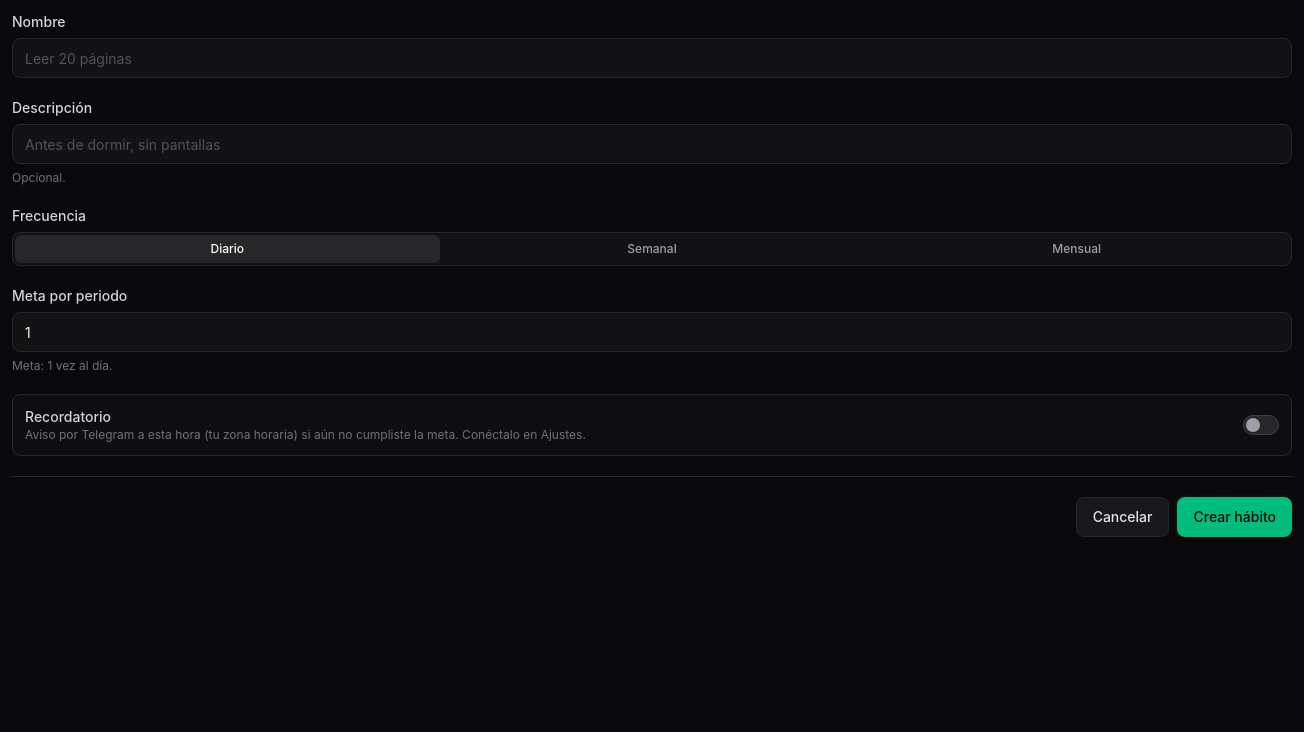
HabitForm › valida antes de enviar
Replace the text in the field labelled "Meta por periodo" with "0" at [652, 332], box [12,312,1292,352]
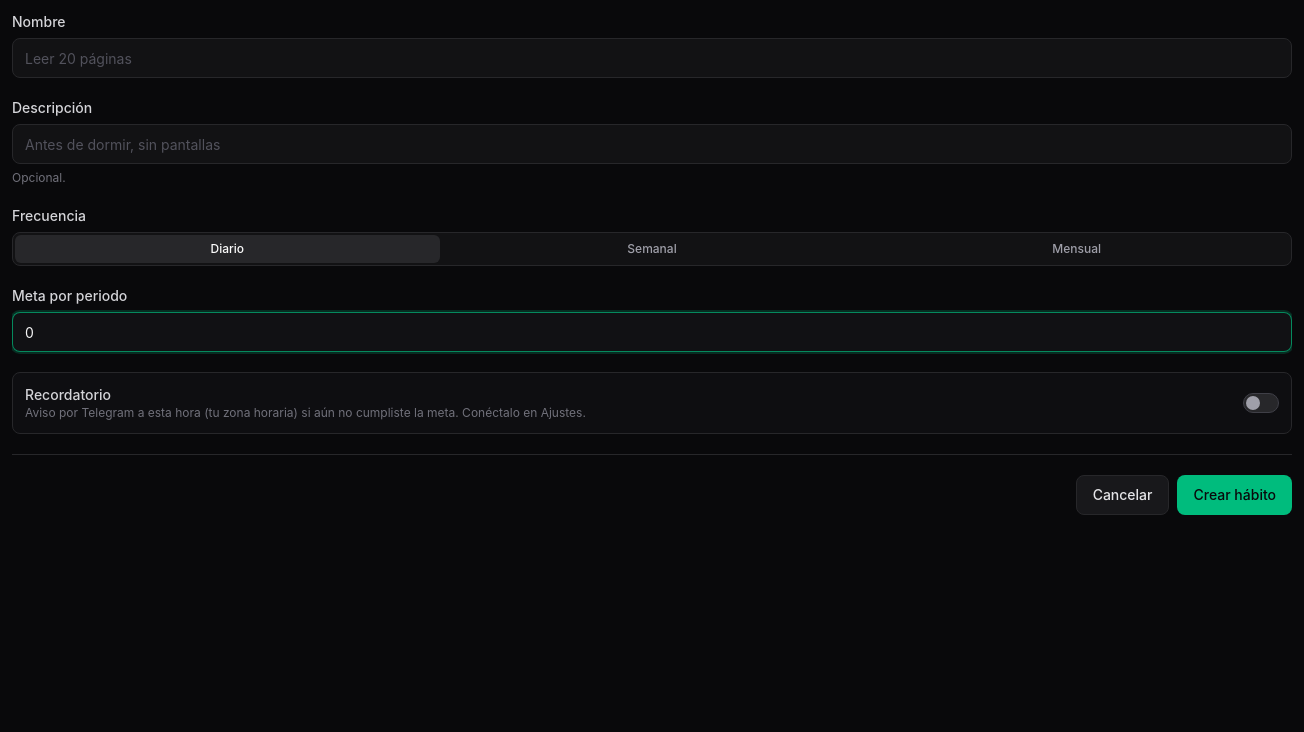
Click the button "Crear hábito" at [1235, 495], box [1178,475,1292,515]
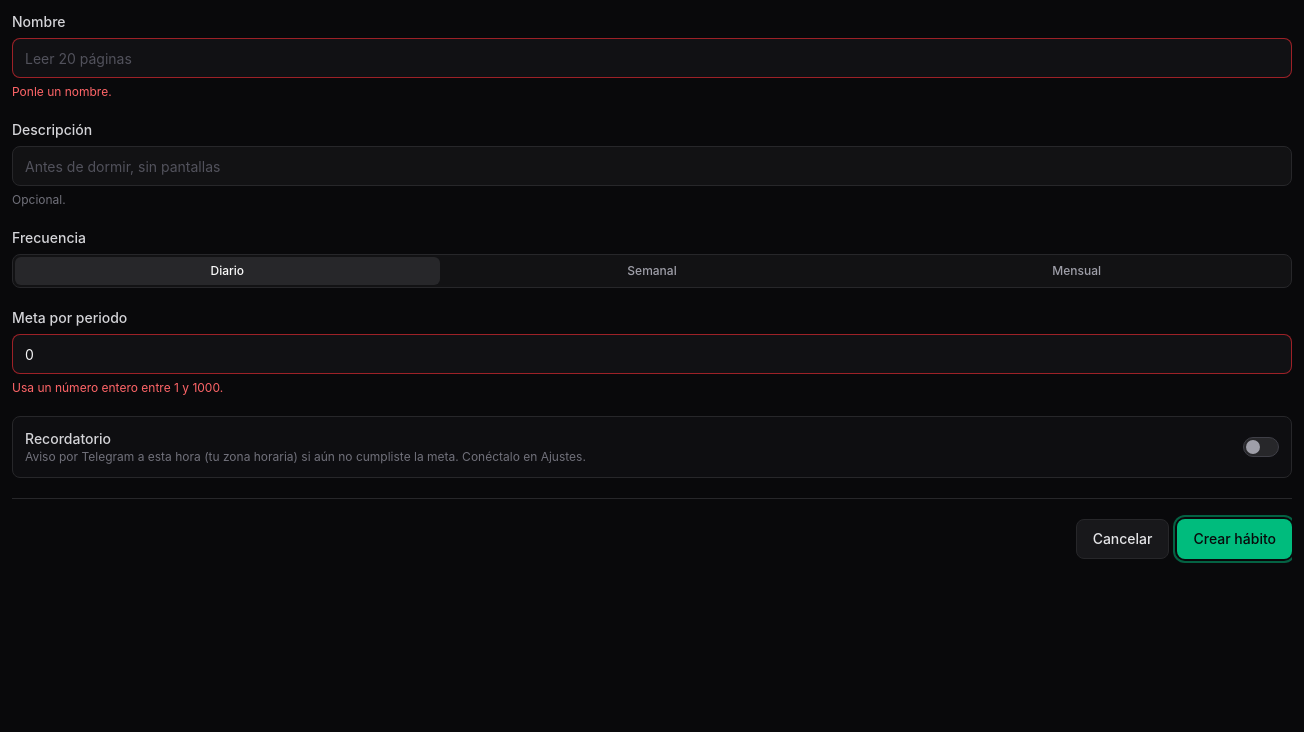
expect the text "Usa un número entero entre 1 y 1000." is shown: met, box [12,380,223,395]
